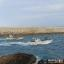fishing boat: (27, 36, 54, 46), (3, 34, 25, 40)
